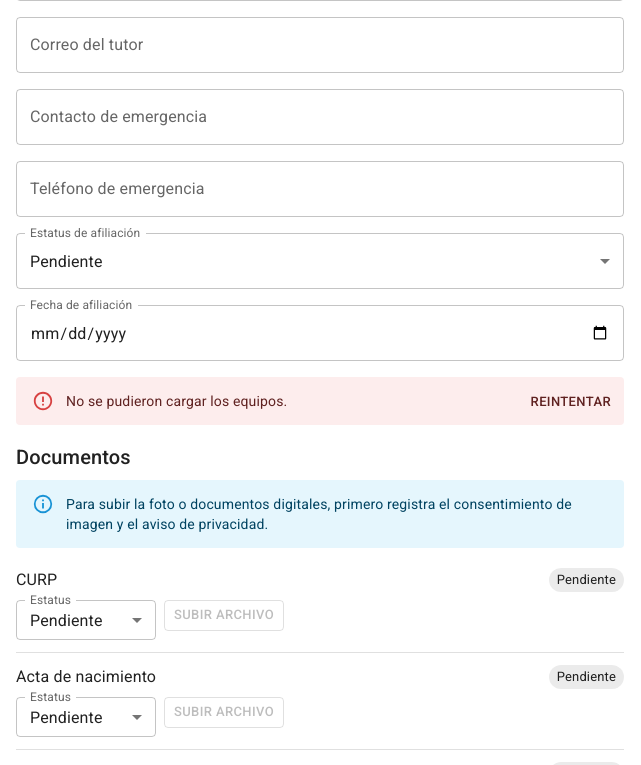
a failed teams load keeps the form and retries only the teams
The width and height of the screenshot is (641, 765).
(page scrolled)
Expected: the text "No se pudieron cargar los equipos." is shown, [66,393,287,409]
Click the button "Reintentar" at (571, 402), box [526,387,616,418]
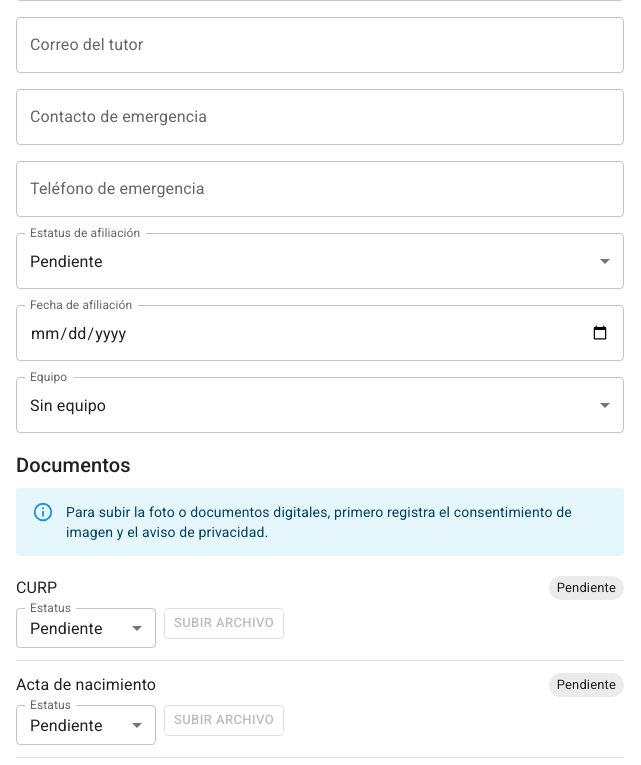
Now the dropdown labelled "Equipo" is shown, box [16,377,624,433]
